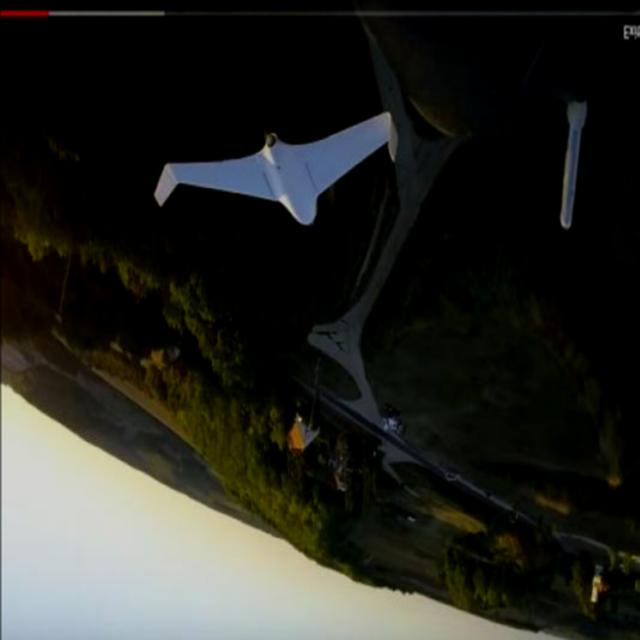plane: (152, 110, 399, 228)
